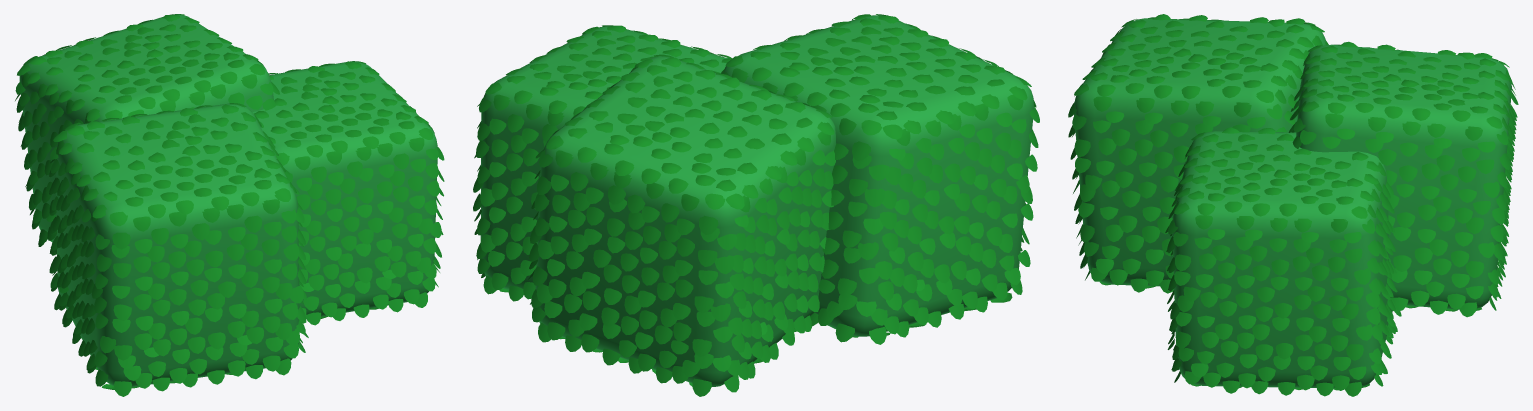
File: TreeLeaf3.fbx
3 renders of one model, left to right at view 1: azimuth 30°, elevation 25°; view 2: azimuth 150°, elevation 25°; view 3: azimuth 270°, elevation 25°, orthographic. The views are drawn at different scales.
Parts seen in each view (by area): view 1: Leaf_Geo.003, TreeCube_Geo.003, Leaf_Geo.001, TreeCube_Geo.001, TreeCube_Geo.002, Leaf_Geo.002; view 2: Leaf_Geo.002, TreeCube_Geo.002, Leaf_Geo.003, TreeCube_Geo.003, Leaf_Geo.001, TreeCube_Geo.001; view 3: Leaf_Geo.001, TreeCube_Geo.001, TreeCube_Geo.002, TreeCube_Geo.003, Leaf_Geo.002, Leaf_Geo.003.
Part boxes in pixels (box(x1,y1,x2,y2)): Leaf_Geo.003: box(49, 103, 308, 396); TreeCube_Geo.003: box(56, 103, 299, 386); Leaf_Geo.001: box(254, 61, 444, 325); TreeCube_Geo.001: box(252, 61, 437, 316); TreeCube_Geo.002: box(19, 14, 273, 242); Leaf_Geo.002: box(15, 14, 279, 255); Leaf_Geo.002: box(528, 54, 835, 396); TreeCube_Geo.002: box(535, 56, 835, 386); Leaf_Geo.003: box(721, 14, 1039, 344); TreeCube_Geo.003: box(724, 15, 1033, 336); Leaf_Geo.001: box(473, 25, 731, 301); TreeCube_Geo.001: box(480, 26, 727, 289); Leaf_Geo.001: box(1165, 127, 1401, 396); TreeCube_Geo.001: box(1172, 131, 1392, 388); TreeCube_Geo.002: box(1296, 44, 1511, 309); TreeCube_Geo.003: box(1074, 18, 1325, 286); Leaf_Geo.002: box(1288, 41, 1518, 317); Leaf_Geo.003: box(1068, 14, 1328, 293).
Bounding box in the file's own units: 602 × 333 × 582.
